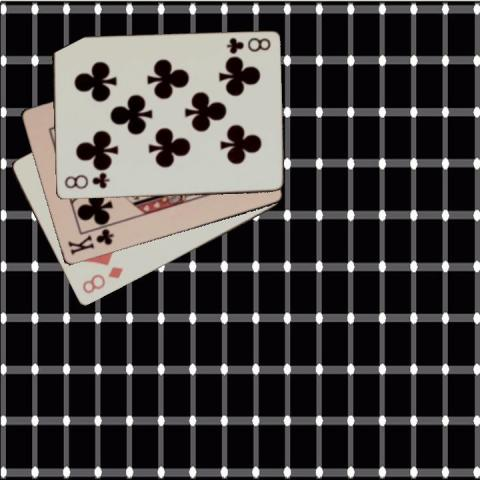8c: (61, 172, 111, 191), (223, 36, 272, 55)
8d: (78, 264, 125, 296)
Kc: (65, 227, 115, 256)
